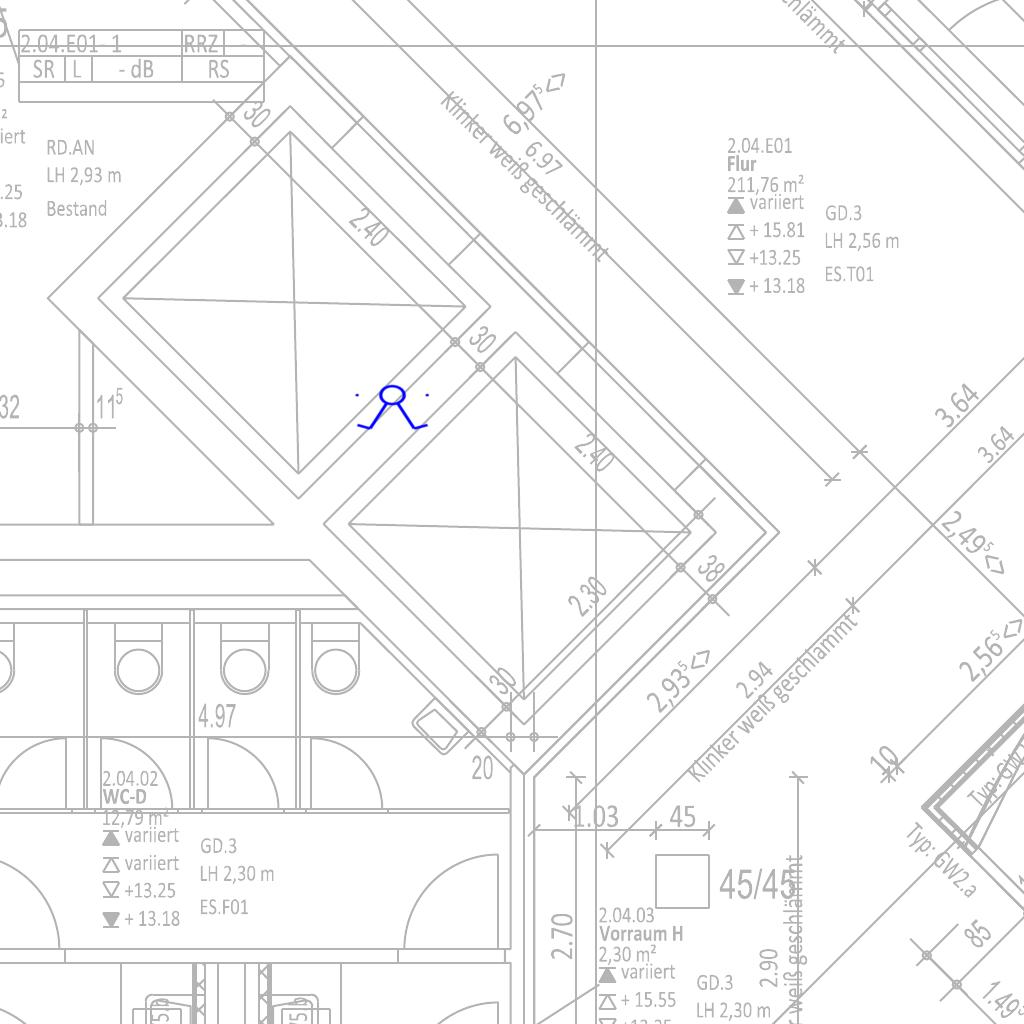Serienschalter: (351, 384, 435, 432)
